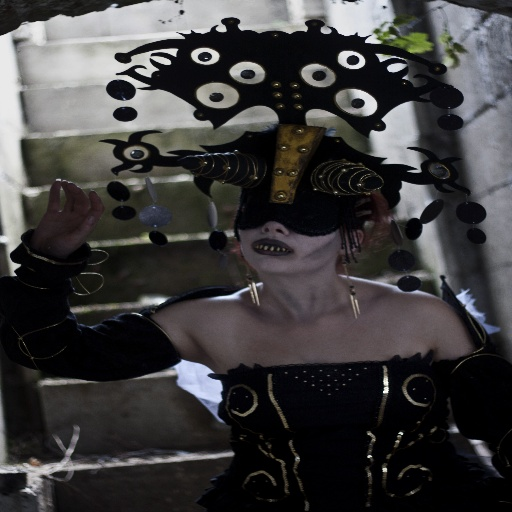hand: (30, 177, 106, 261)
